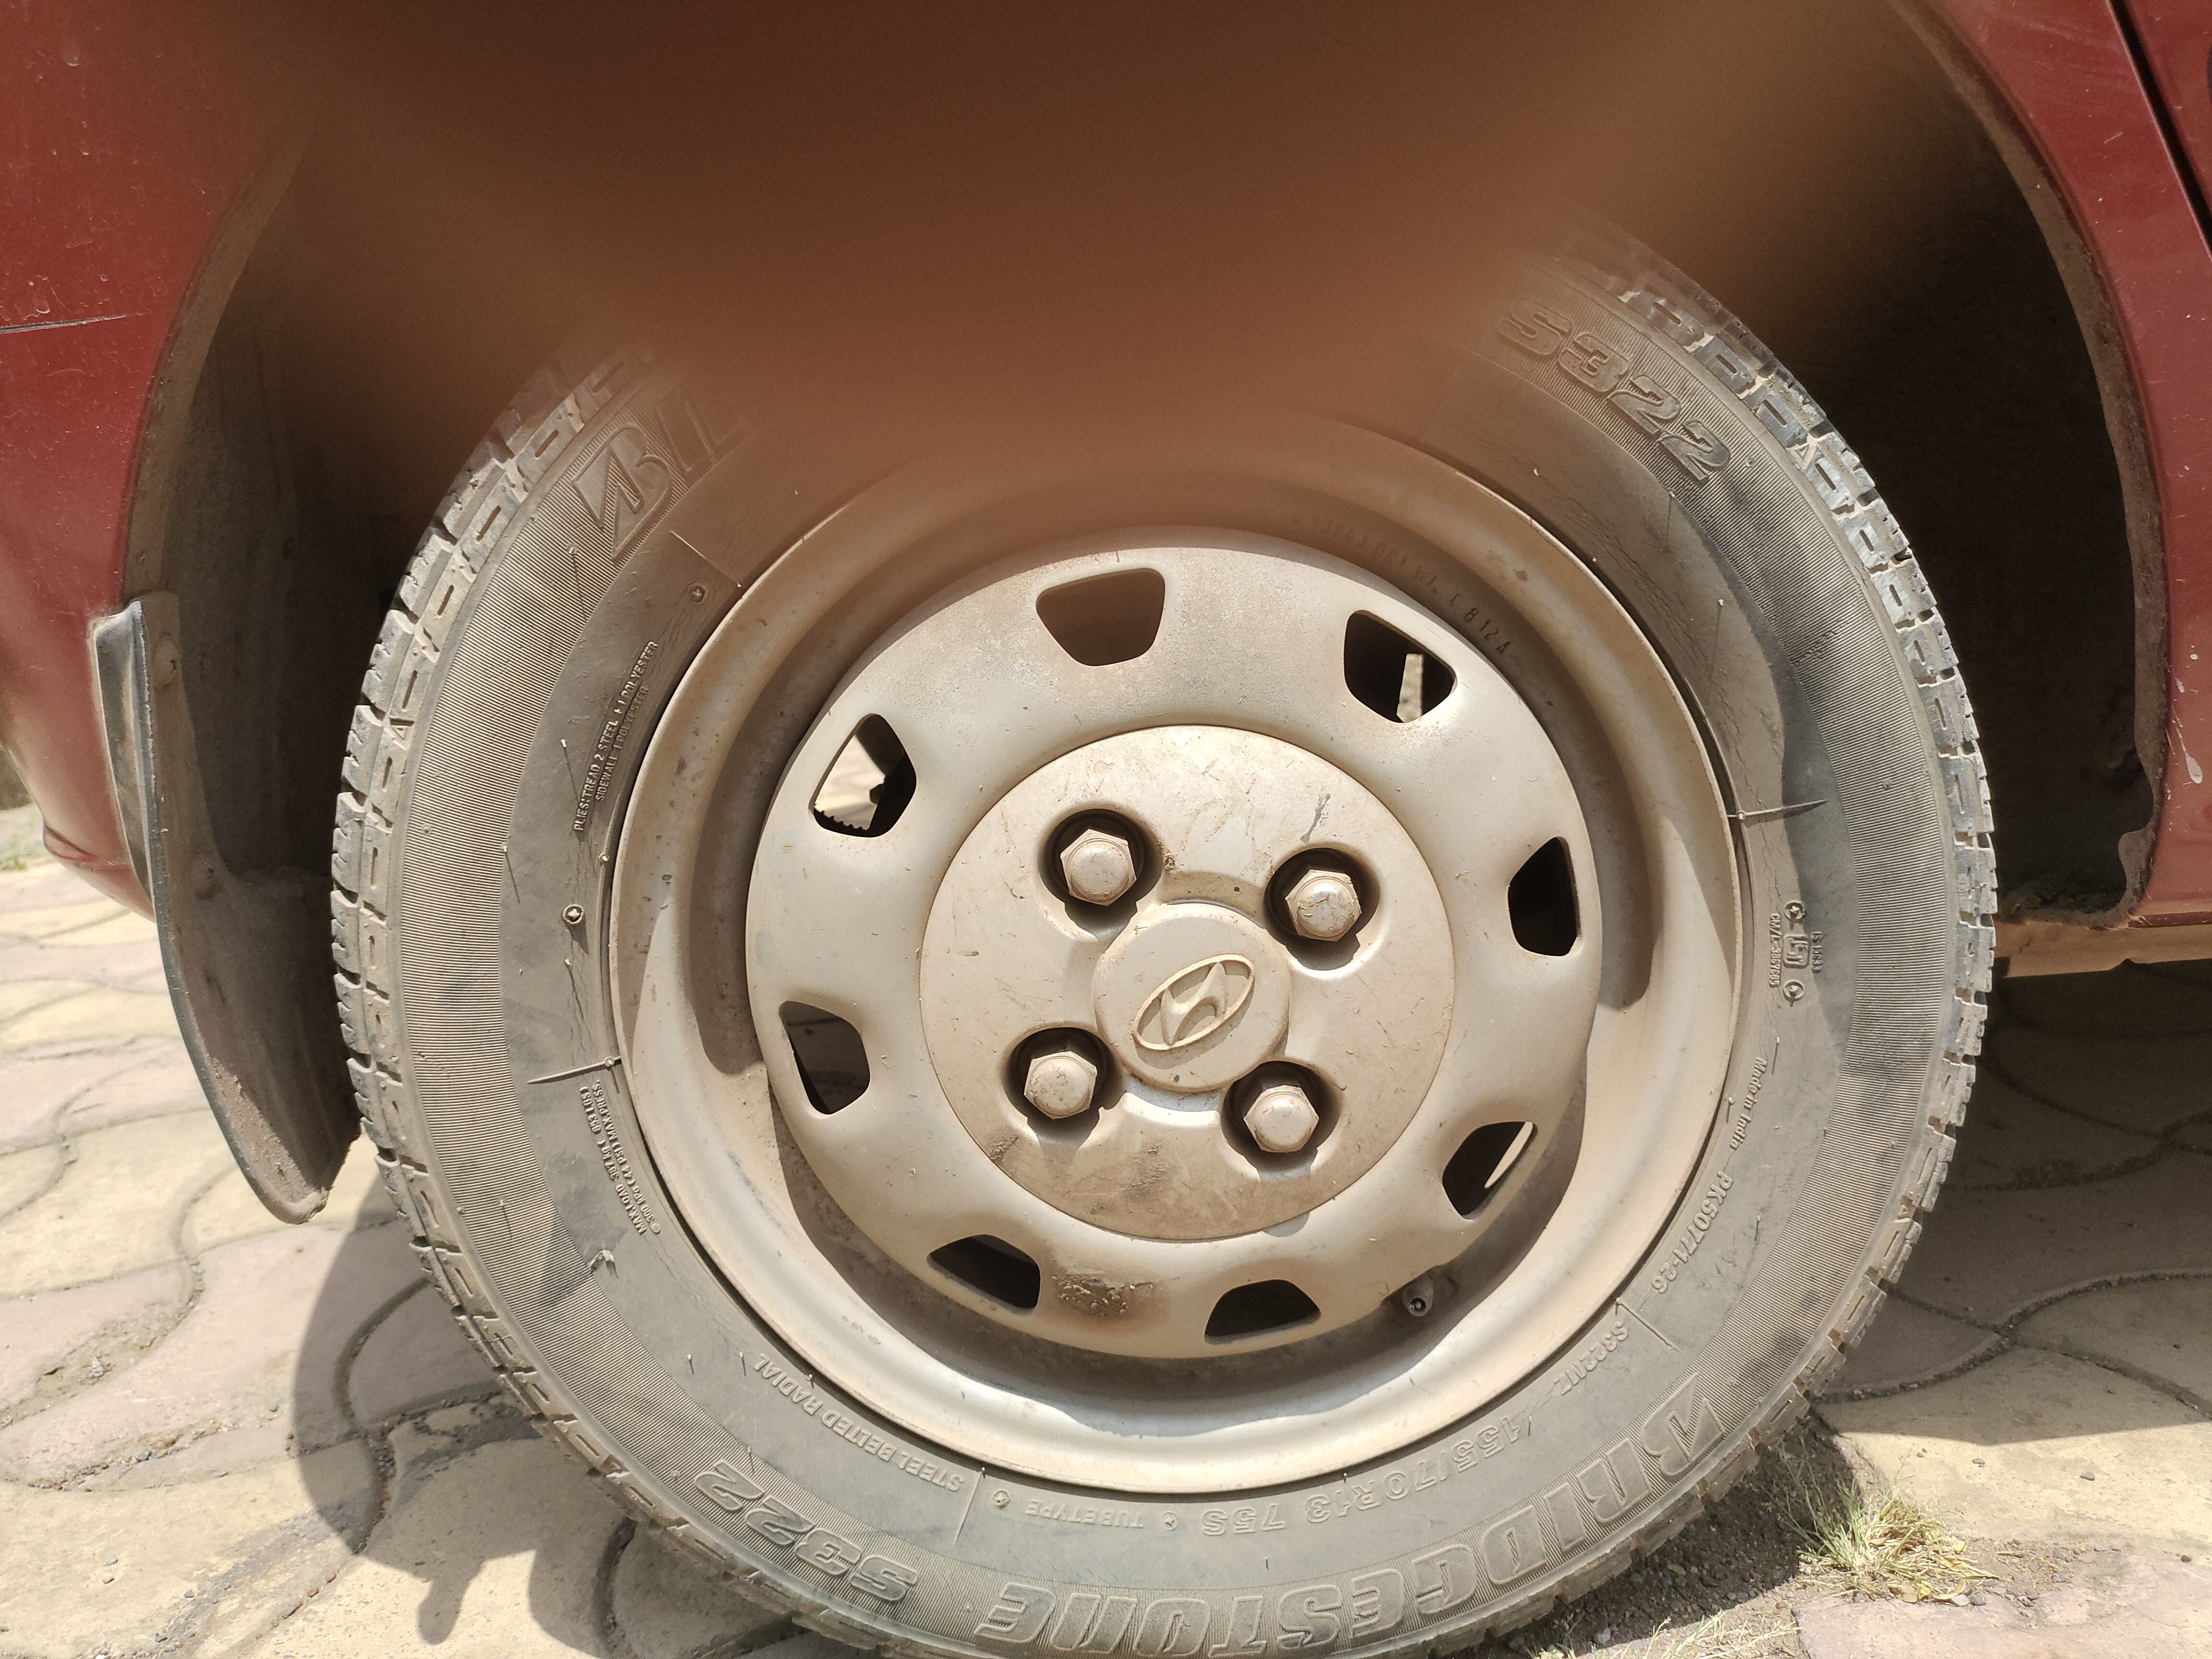l: (1209, 1056, 1352, 1185), (1259, 847, 1388, 969), (986, 1026, 1122, 1138), (1043, 802, 1151, 939)
